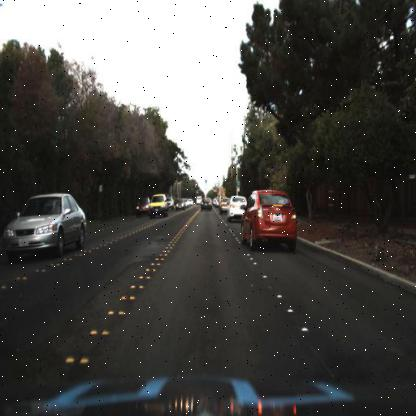car: (2, 191, 88, 261), (240, 186, 299, 254), (132, 192, 152, 222), (148, 191, 169, 219), (217, 193, 232, 216), (174, 195, 188, 213), (200, 196, 212, 215), (195, 193, 203, 208)
